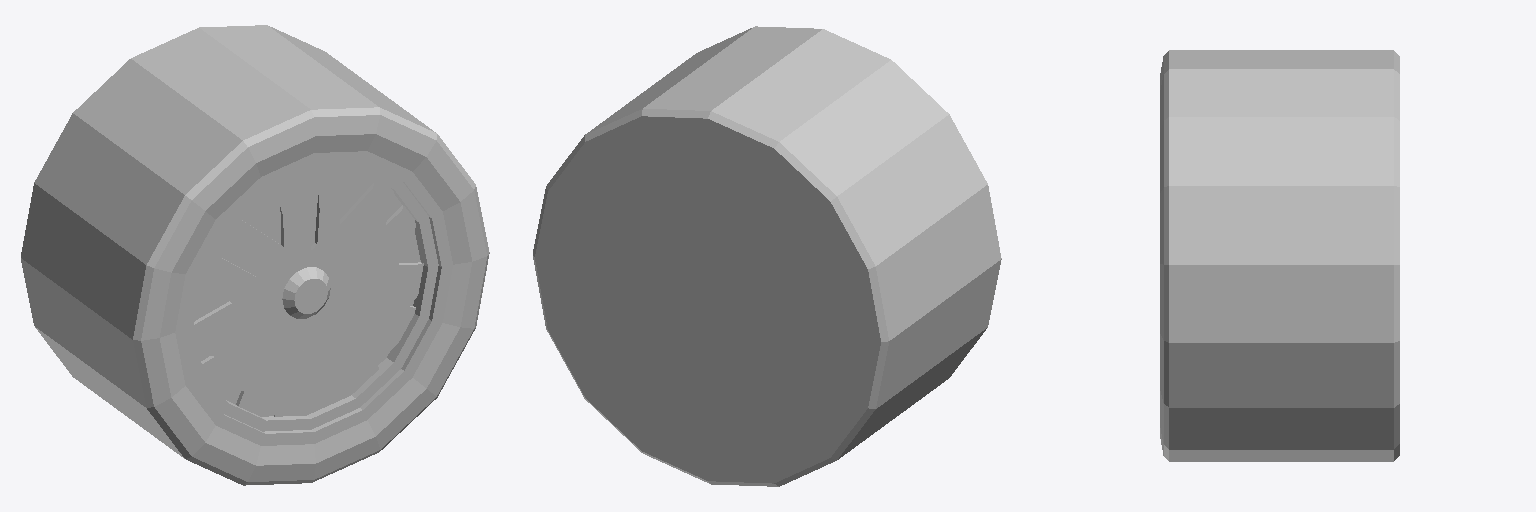
Rendered from wheel.obj.
3 renders of one model, left to right at view 1: azimuth 30°, elevation 25°; view 2: azimuth 150°, elevation 25°; view 3: azimuth 270°, elevation 25°, orthographic.
Parts seen in each view (by area): view 1: lfWheel.001; view 2: lfWheel.001; view 3: lfWheel.001.
Boxes of the visible parts, <box> form: lfWheel.001: <box>21,25,489,485</box>; lfWheel.001: <box>533,26,1001,486</box>; lfWheel.001: <box>1160,50,1399,461</box>.
Size of the model in its own units: 0.6059 by 0.6059 by 0.353.